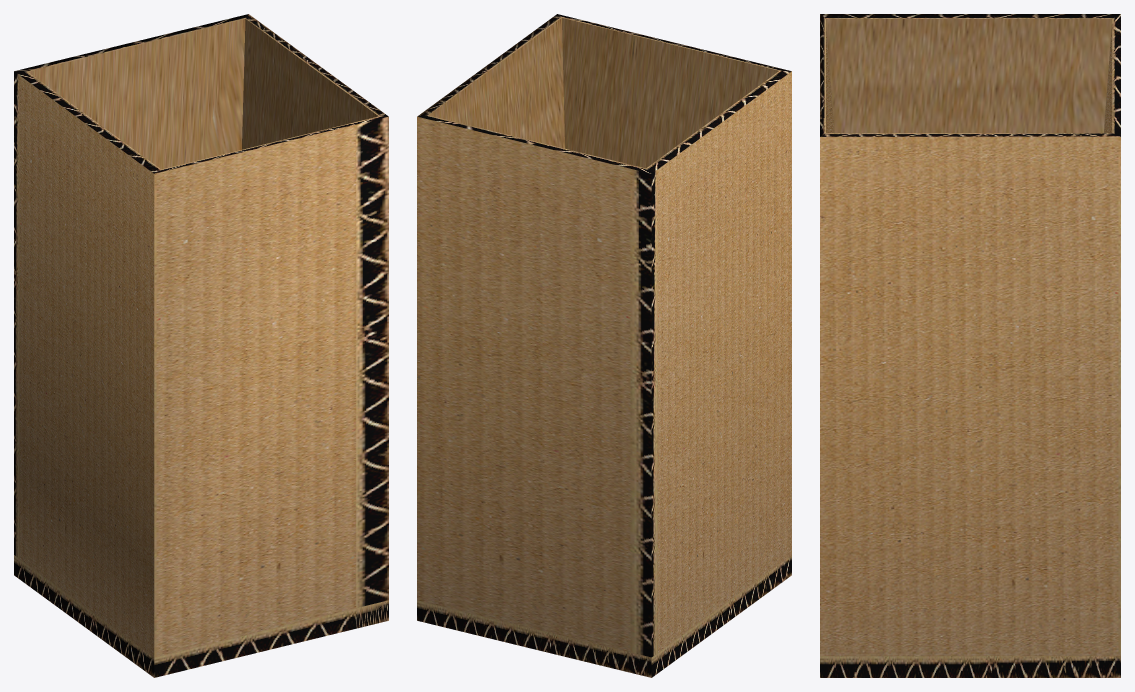
File: Pahvilaatikko1.FBX
The picture shows the model from 3 angles, left to right: view 1: azimuth 30°, elevation 25°; view 2: azimuth 150°, elevation 25°; view 3: azimuth 270°, elevation 25°; orthographic projection. The views are drawn at different scales.
Visible parts, largest first — view 1: Box001; view 2: Box001; view 3: Box001.
Boxes of the visible parts, box(x1,y1,x2,y2) form: Box001: box(14, 14, 388, 677); Box001: box(417, 14, 791, 677); Box001: box(820, 14, 1120, 677).
Size of the model in its own units: 33.44 by 68.64 by 34.6.
1 material, 1 textured.
